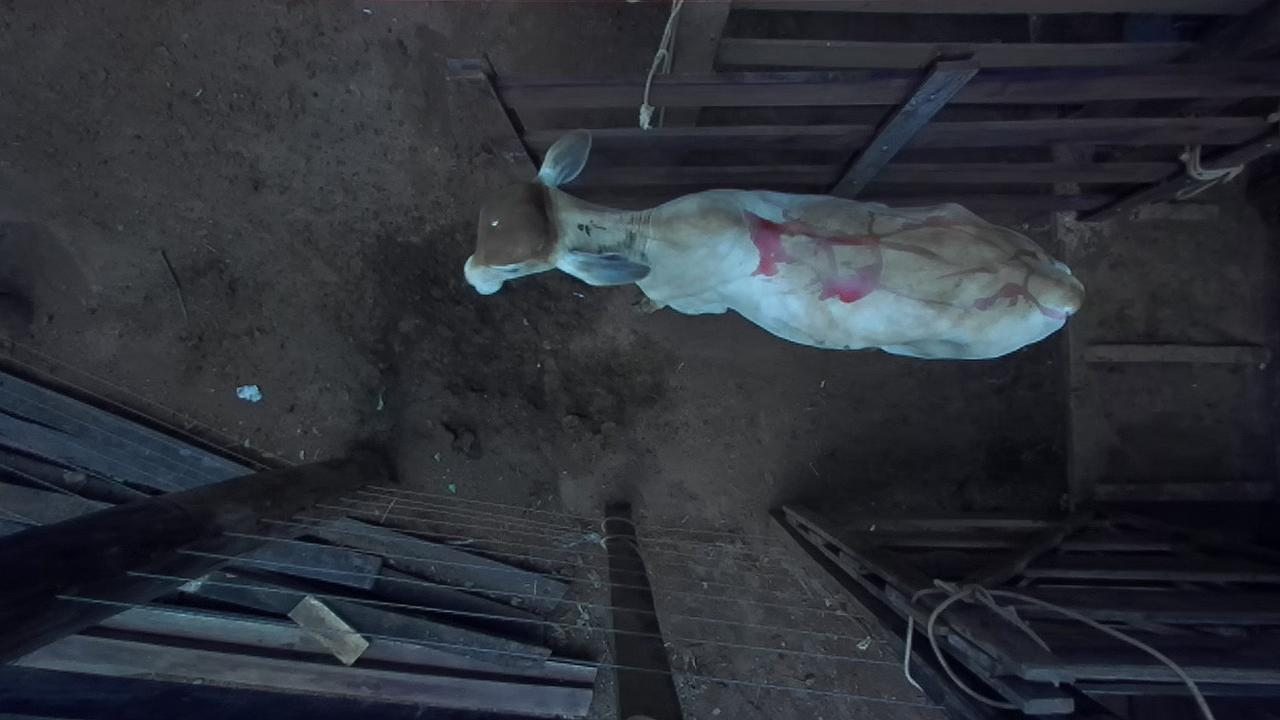cattle: (462, 128, 1085, 361)
